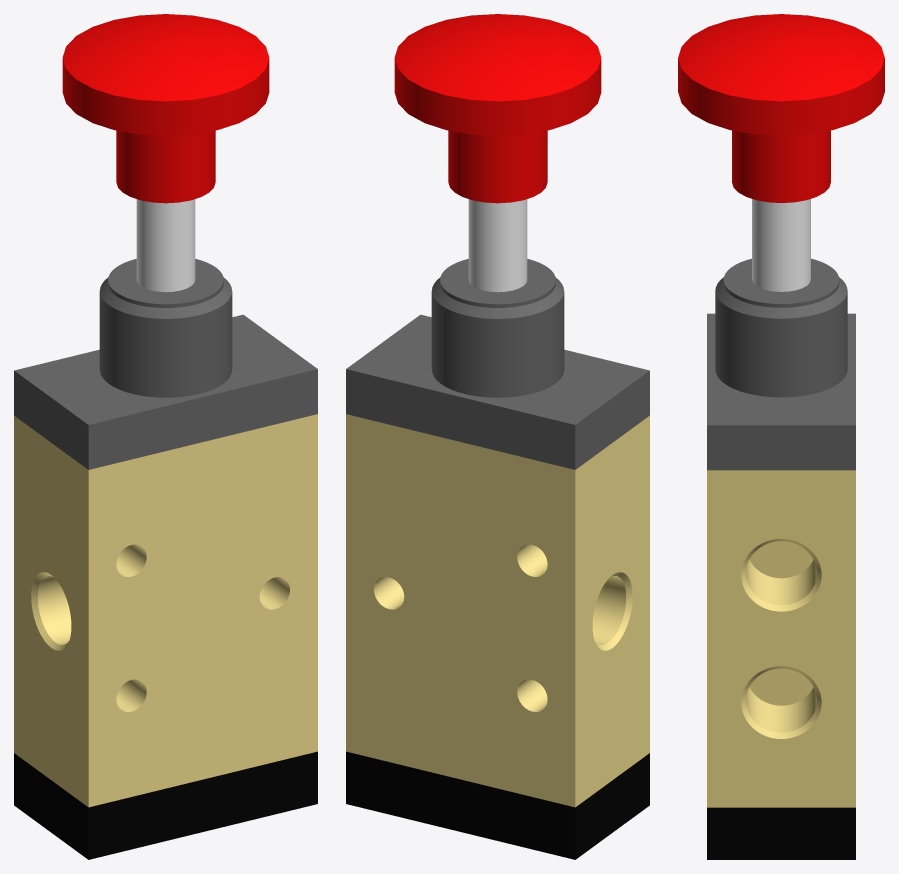
File: Button.fbx
The picture shows the model from 3 angles, left to right: view 1: azimuth 30°, elevation 25°; view 2: azimuth 150°, elevation 25°; view 3: azimuth 270°, elevation 25°; orthographic projection.
Parts seen in each view (by area): view 1: 228.204_1, LEVATASTOMOLLA/1_3, LEVATASTOMOLLA/1_3.001, 218_9_28_2; view 2: 228.204_1, LEVATASTOMOLLA/1_3, LEVATASTOMOLLA/1_3.001, 218_9_28_2; view 3: 228.204_1, LEVATASTOMOLLA/1_3.001, LEVATASTOMOLLA/1_3, 218_9_28_2.
Boxes of the visible parts, x1,y1,x2,y2 form: 228.204_1: (14,414,317,807); LEVATASTOMOLLA/1_3: (14,259,317,469); LEVATASTOMOLLA/1_3.001: (62,14,269,292); 218_9_28_2: (14,751,317,859); 228.204_1: (346,414,649,807); LEVATASTOMOLLA/1_3: (346,259,649,469); LEVATASTOMOLLA/1_3.001: (394,14,601,292); 218_9_28_2: (346,751,649,859); 228.204_1: (707,470,855,807); LEVATASTOMOLLA/1_3.001: (678,14,884,291); LEVATASTOMOLLA/1_3: (707,258,855,470); 218_9_28_2: (707,807,855,859).
Size of the model in its own units: 0.32 by 1.02 by 0.25.
